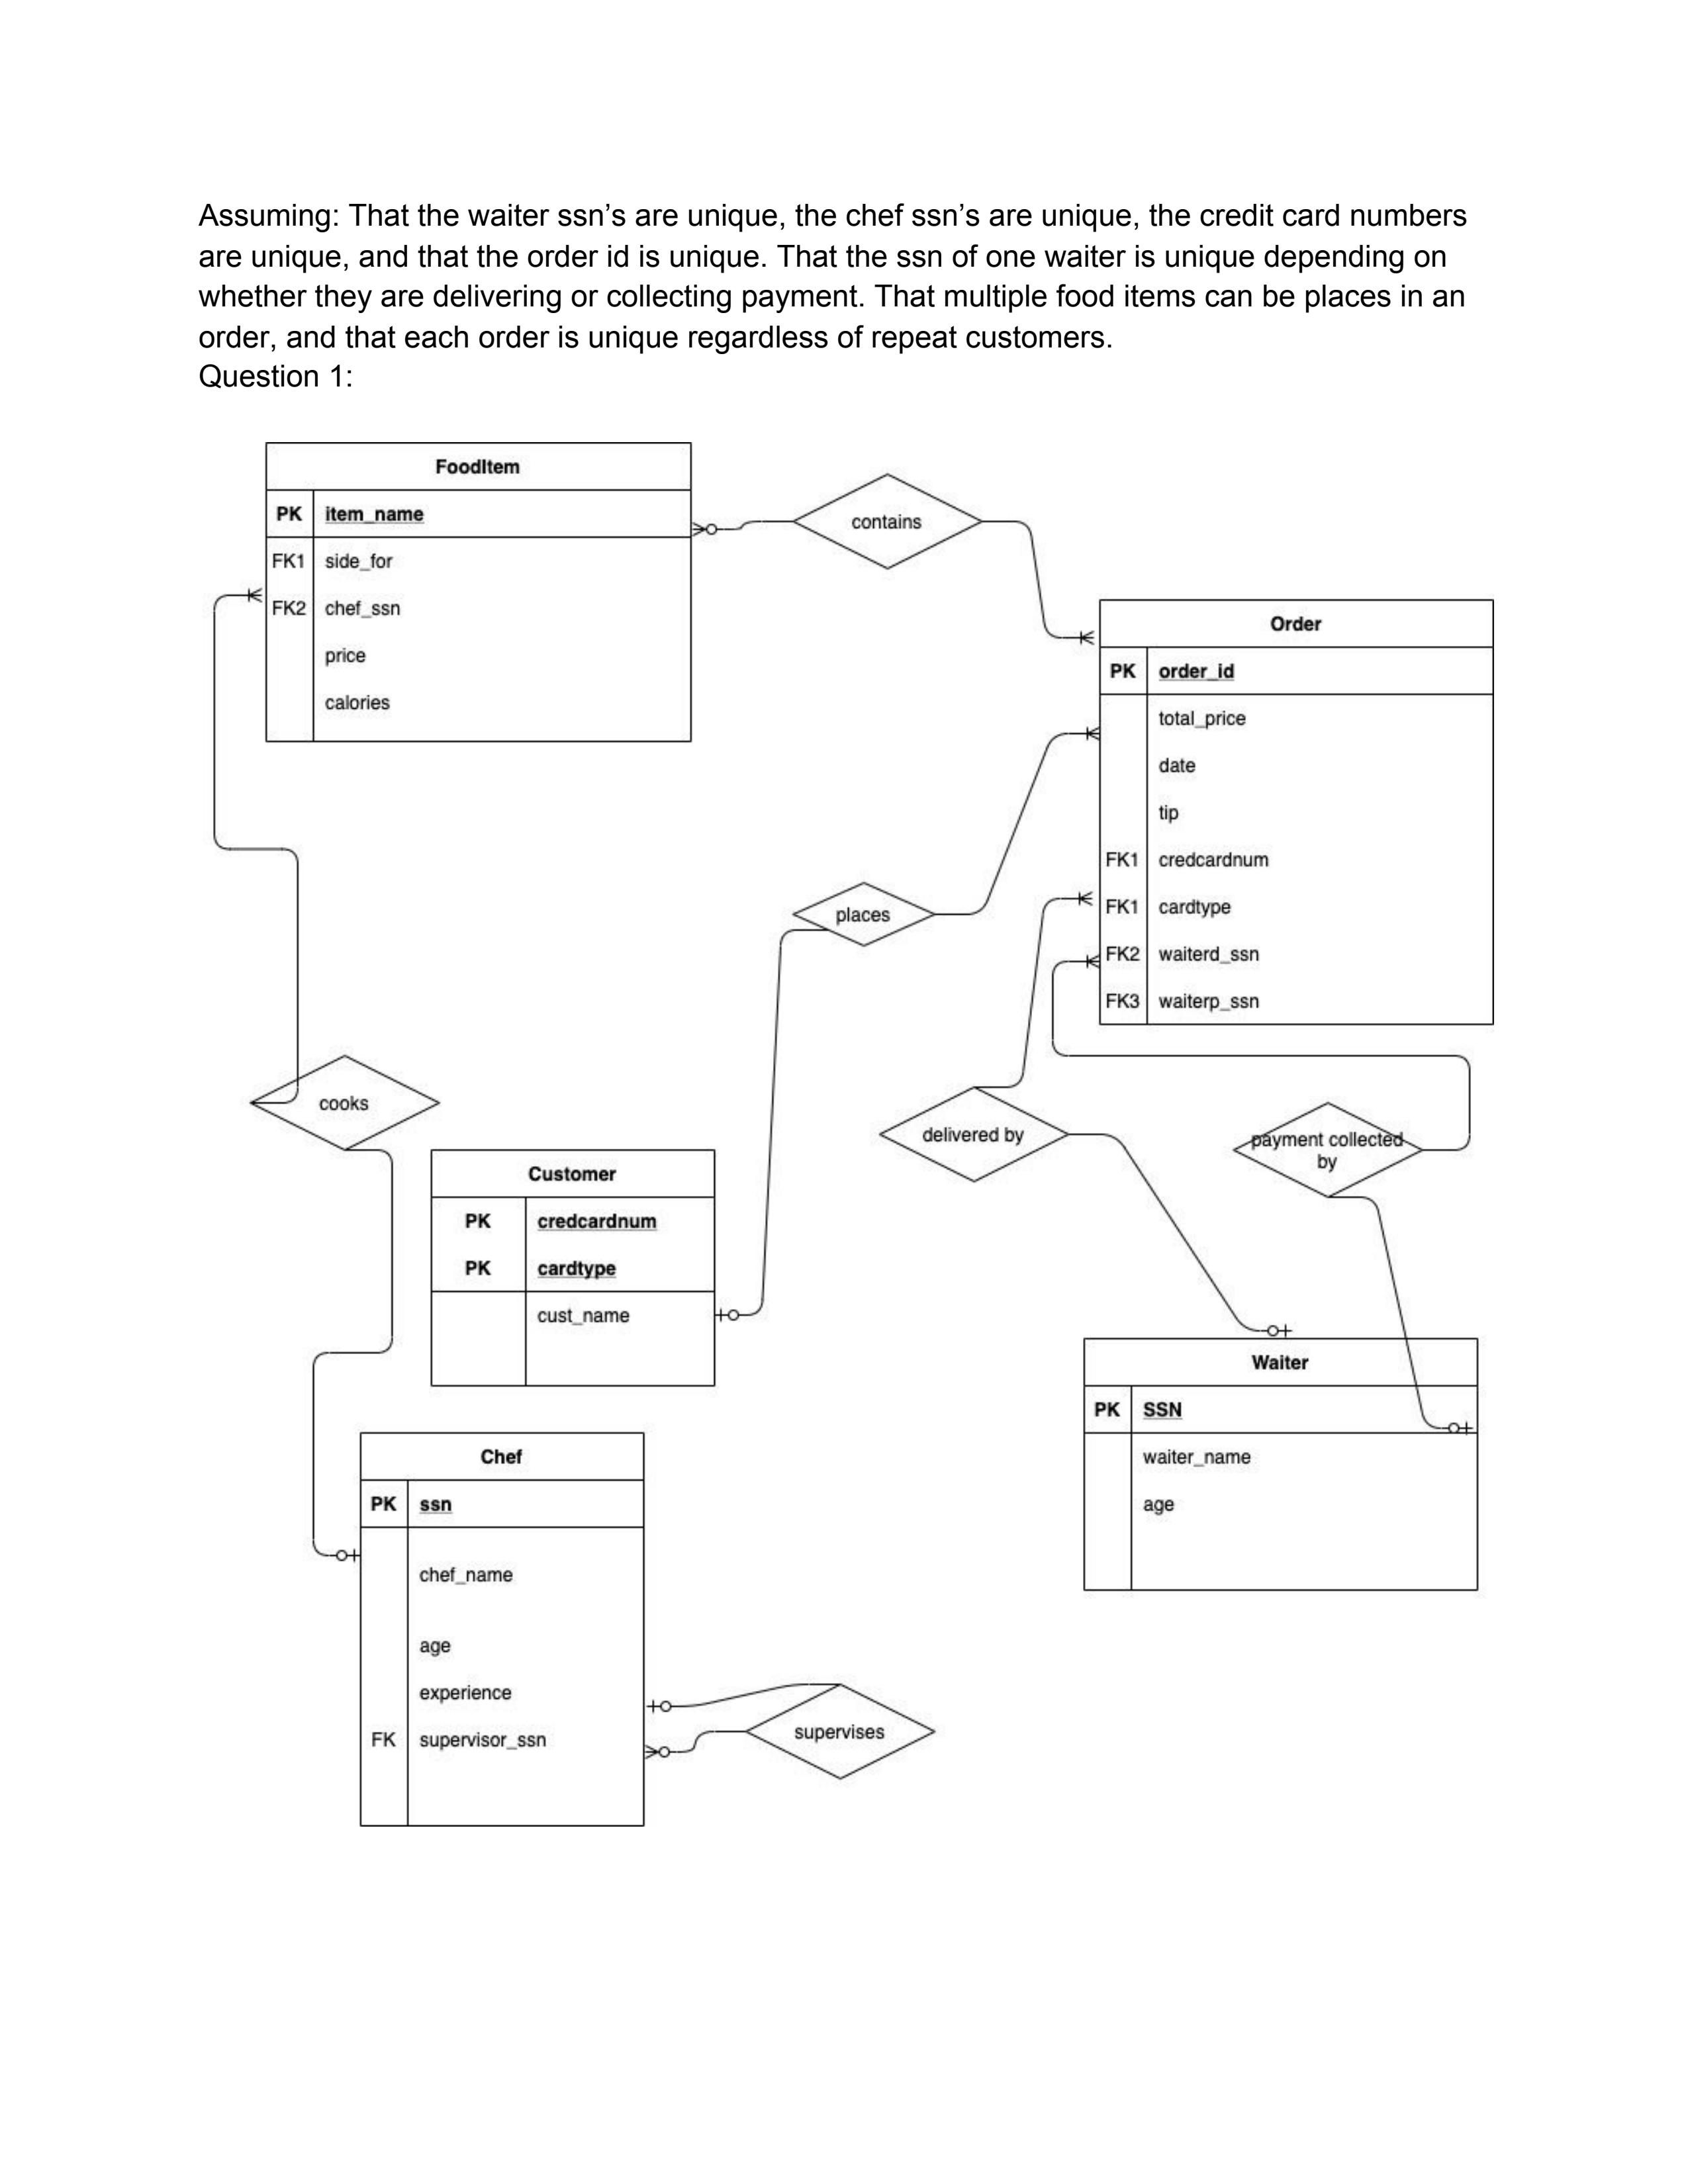Entity: (1098, 597, 1495, 1026), (264, 441, 693, 745), (358, 1431, 645, 1828), (1083, 1338, 1479, 1592), (429, 1149, 716, 1388)
Relationship: (878, 1087, 1069, 1182), (793, 473, 982, 569), (745, 1684, 934, 1780), (250, 1055, 440, 1150), (1234, 1103, 1422, 1197), (793, 883, 936, 947)
